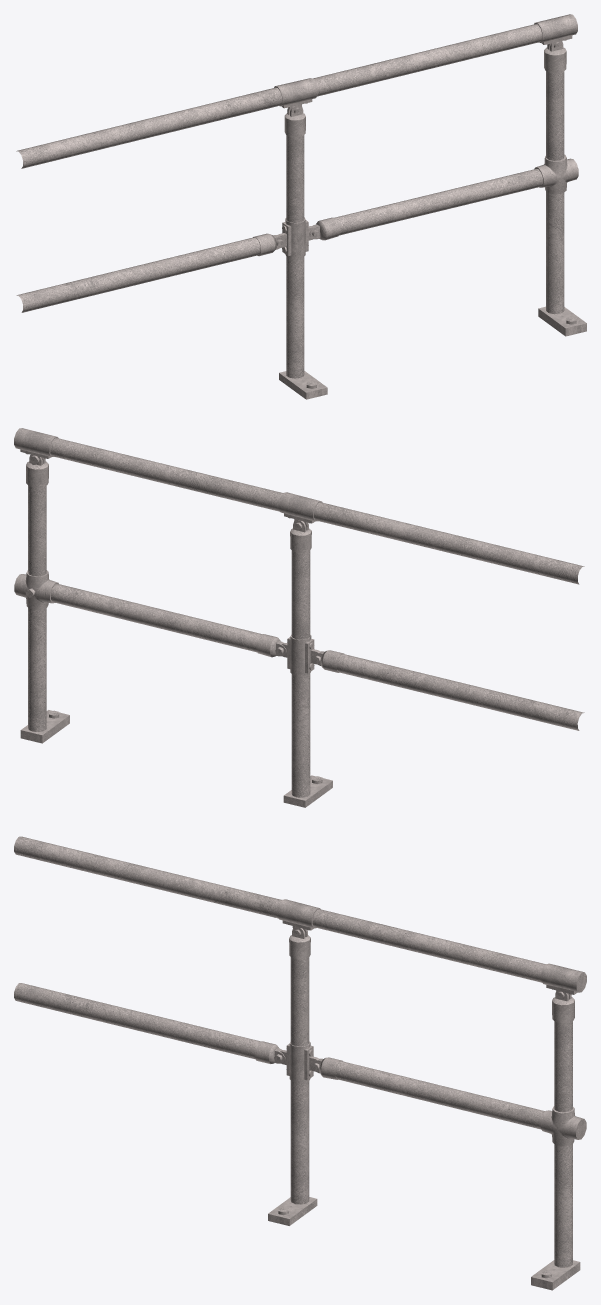
File: SM_Railing_01c.glb
3 renders of one model, top to bottom at view 1: azimuth 30°, elevation 25°; view 2: azimuth 150°, elevation 25°; view 3: azimuth 330°, elevation 25°, orthographic.
Visible parts, largest first — view 1: SM_Railing_01c; view 2: SM_Railing_01c; view 3: SM_Railing_01c.
Part boxes in pixels (x1=…): SM_Railing_01c: x1=16, y1=14, x2=586, y2=399; SM_Railing_01c: x1=14, y1=428, x2=584, y2=807; SM_Railing_01c: x1=14, y1=836, x2=586, y2=1290.
Size of the model in its own units: 2 by 1.03 by 0.1803.
Materials: 1 (1 with a texture image).
